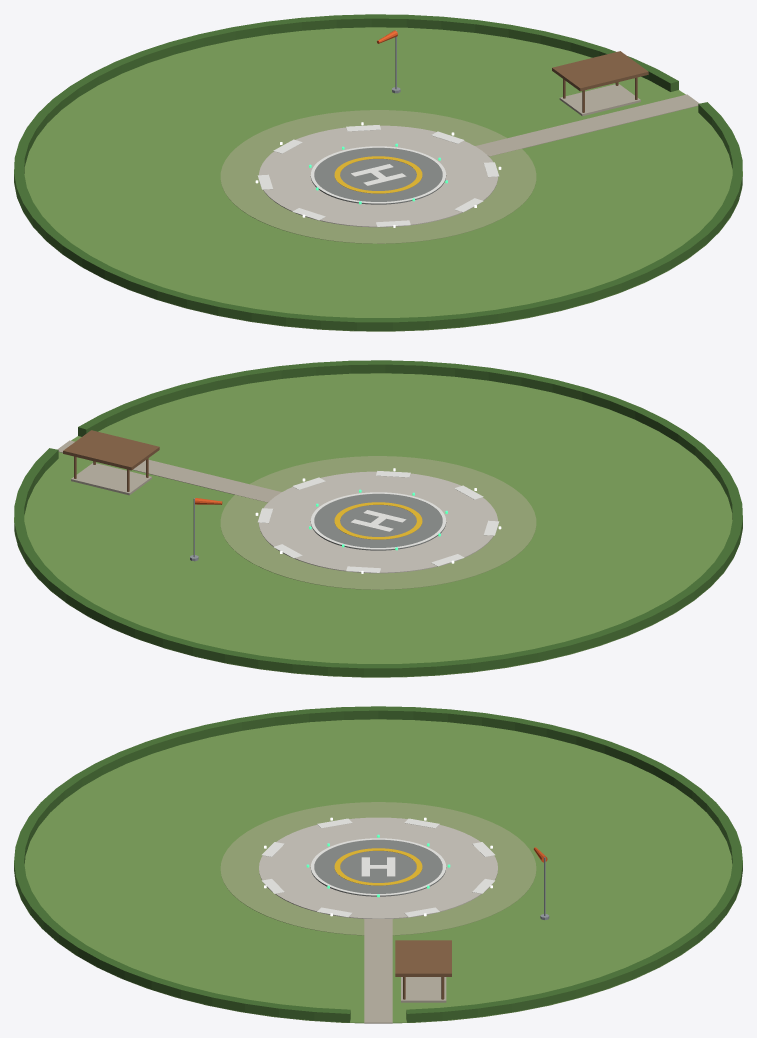
The model's file is helipad.glb.
3 renders of one model, top to bottom at view 1: azimuth 30°, elevation 25°; view 2: azimuth 150°, elevation 25°; view 3: azimuth 270°, elevation 25°, orthographic.
Visible parts, largest first — view 1: Helipad | Clear zone lawn, Helipad | Boundary hedge, Helipad | Safety area, Helipad | FATO, Helipad | TLOF, Helipad | Access walk, Helipad | Shelter roof, Helipad | FATO perimeter markers, Helipad | Shelter deck, Helipad | TLOF perimeter line, Helipad | Touchdown circle; view 2: Helipad | Clear zone lawn, Helipad | Boundary hedge, Helipad | Safety area, Helipad | FATO, Helipad | TLOF, Helipad | Shelter roof, Helipad | Access walk, Helipad | FATO perimeter markers, Helipad | Shelter deck, Helipad | TLOF perimeter line, Helipad | Touchdown circle; view 3: Helipad | Clear zone lawn, Helipad | Boundary hedge, Helipad | Safety area, Helipad | FATO, Helipad | TLOF, Helipad | Access walk, Helipad | Shelter roof, Helipad | FATO perimeter markers, Helipad | Shelter deck, Helipad | TLOF perimeter line, Helipad | Touchdown circle.
Boxes of the visible parts, x1,y1,x2,y2 form: Helipad | Clear zone lawn: (14, 27, 742, 331); Helipad | Boundary hedge: (14, 14, 742, 330); Helipad | Safety area: (220, 110, 536, 243); Helipad | FATO: (259, 125, 497, 227); Helipad | TLOF: (310, 148, 446, 204); Helipad | Access walk: (475, 94, 699, 156); Helipad | Shelter roof: (552, 51, 648, 91); Helipad | FATO perimeter markers: (257, 125, 499, 226); Helipad | Shelter deck: (559, 84, 640, 116); Helipad | TLOF perimeter line: (310, 146, 446, 203); Helipad | Touchdown circle: (334, 156, 422, 193); Helipad | Clear zone lawn: (14, 373, 742, 677); Helipad | Boundary hedge: (14, 360, 742, 676); Helipad | Safety area: (220, 456, 536, 589); Helipad | FATO: (259, 471, 497, 573); Helipad | TLOF: (310, 494, 446, 550); Helipad | Shelter roof: (63, 430, 159, 470); Helipad | Access walk: (57, 440, 281, 502); Helipad | FATO perimeter markers: (257, 471, 499, 572); Helipad | Shelter deck: (71, 463, 151, 495); Helipad | TLOF perimeter line: (310, 492, 446, 549); Helipad | Touchdown circle: (334, 502, 422, 539); Helipad | Clear zone lawn: (14, 719, 742, 1023); Helipad | Boundary hedge: (14, 706, 742, 1022); Helipad | Safety area: (220, 802, 536, 935); Helipad | FATO: (259, 817, 497, 918); Helipad | TLOF: (310, 840, 446, 896); Helipad | Access walk: (364, 919, 392, 1023); Helipad | Shelter roof: (395, 940, 451, 976); Helipad | FATO perimeter markers: (262, 818, 494, 917); Helipad | Shelter deck: (401, 977, 446, 1002); Helipad | TLOF perimeter line: (310, 838, 446, 895); Helipad | Touchdown circle: (334, 848, 422, 885).
Bounding box in the file's own units: 64.6 × 6.04 × 64.6.
